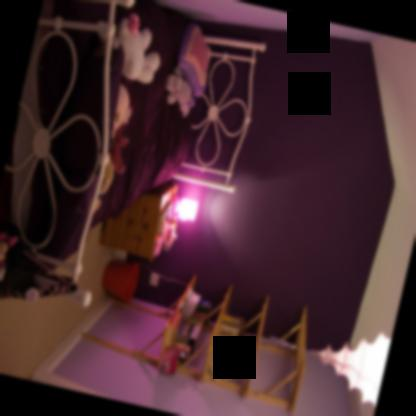handbag: (0, 276, 79, 304)
